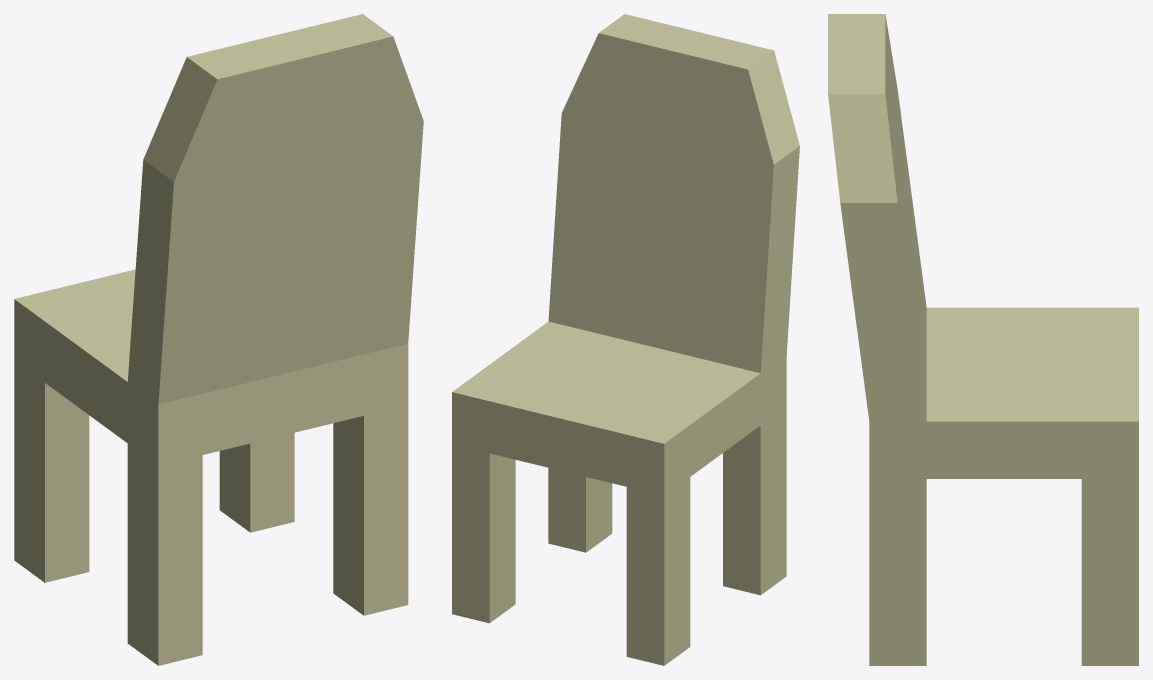
Rendered from chair.fbx.
3 renders of one model, left to right at view 1: azimuth 30°, elevation 25°; view 2: azimuth 150°, elevation 25°; view 3: azimuth 270°, elevation 25°, orthographic. The views are drawn at different scales.
Visible parts, largest first — view 1: Cube.032; view 2: Cube.032; view 3: Cube.032.
Boxes of the visible parts, x1,y1,x2,y2 form: Cube.032: (14,14,423,665); Cube.032: (452,14,799,665); Cube.032: (828,14,1138,665).
Size of the model in its own units: 60 by 136 by 69.18.
